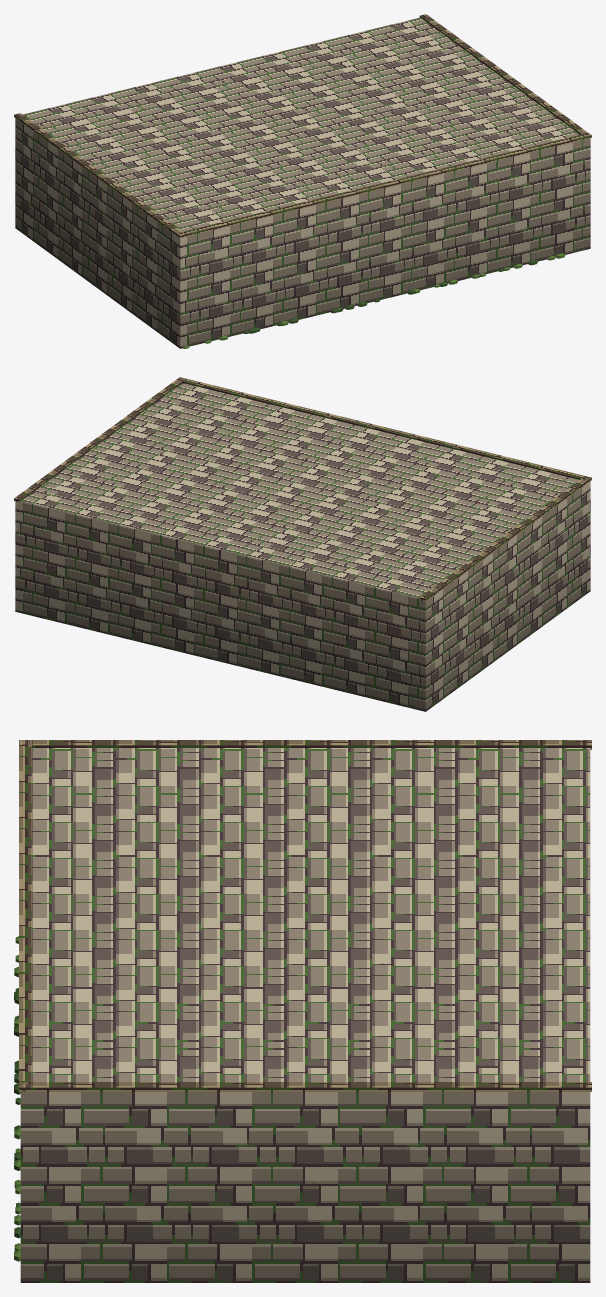
Rendered from scene_wall_w2.glb.
The picture shows the model from 3 angles, top to bottom: view 1: azimuth 30°, elevation 25°; view 2: azimuth 150°, elevation 25°; view 3: azimuth 270°, elevation 25°; orthographic projection. The views are drawn at different scales.
Visible parts, largest first — view 1: scene_wall_w2; view 2: scene_wall_w2; view 3: scene_wall_w2.
Boxes of the visible parts, x1,y1,x2,y2 form: scene_wall_w2: (14,14,591,348); scene_wall_w2: (14,377,591,711); scene_wall_w2: (14,740,591,1282).
Size of the model in its own units: 23.1 by 6.17 by 16.24.
Materials: 2 (1 with a texture image).
